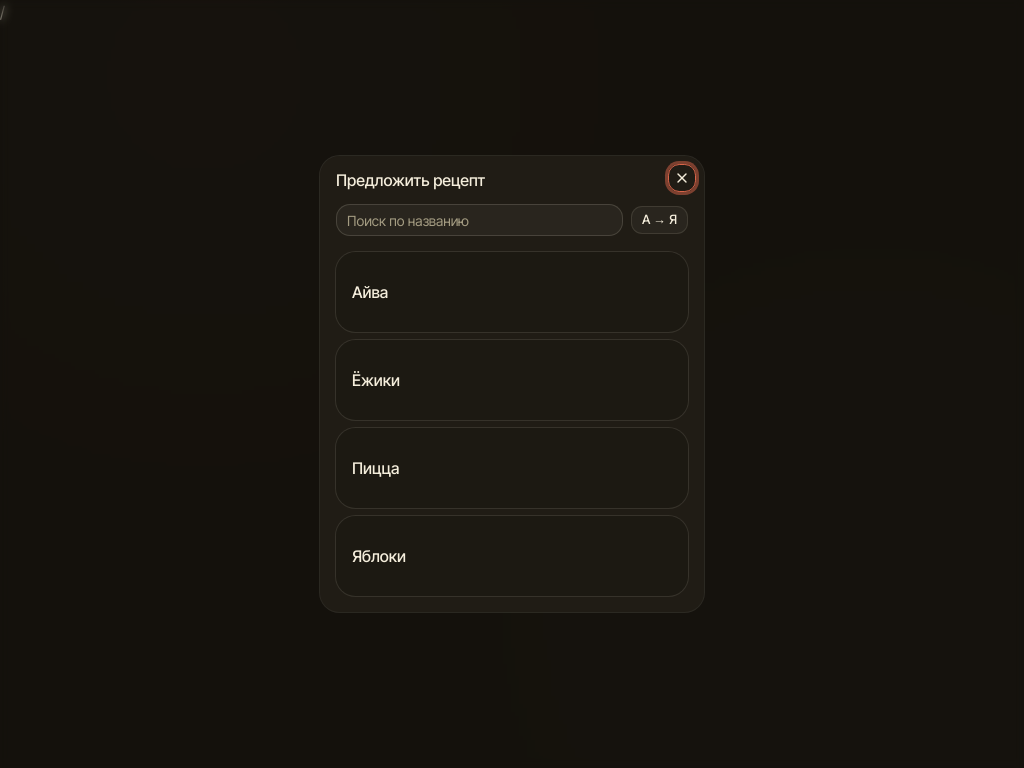
Scenario: SuggestRecipeDialog › поиск фильтрует по названию без учёта регистра и ё/е
Expected: the text "Пицца" is shown, [352,458,399,478]
Type "ежи" into the search field named "Поиск рецепта" at (480, 220), box [336,204,623,236]
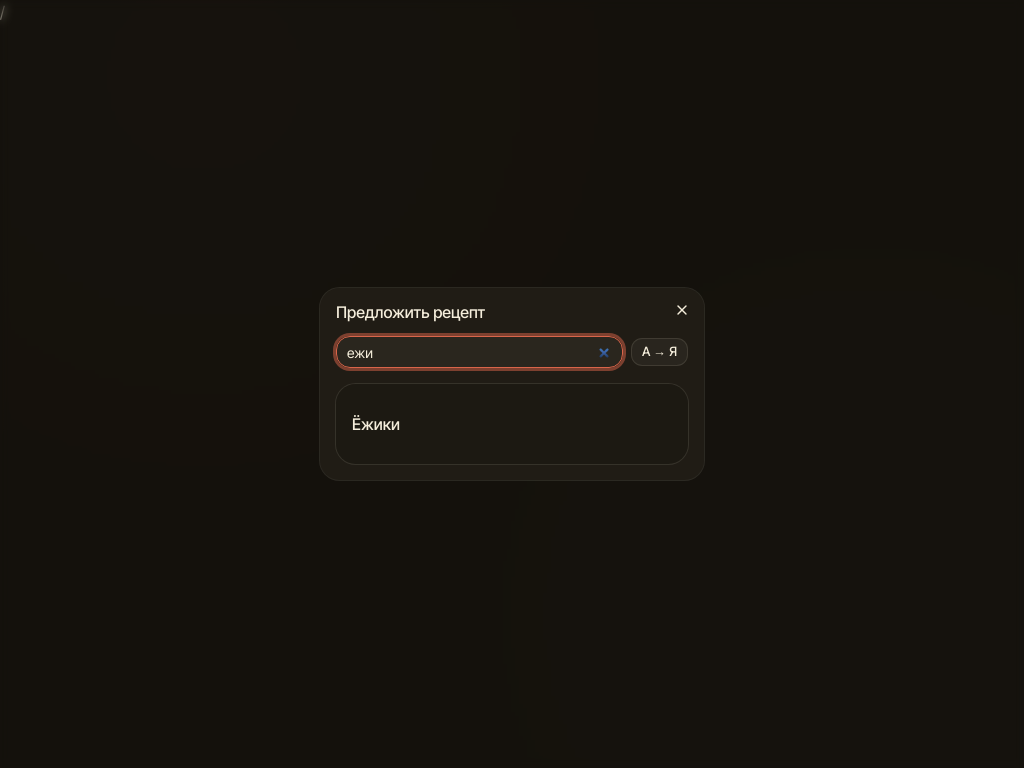
Clear the search field named "Поиск рецепта" at (480, 352), box [336,336,623,368]
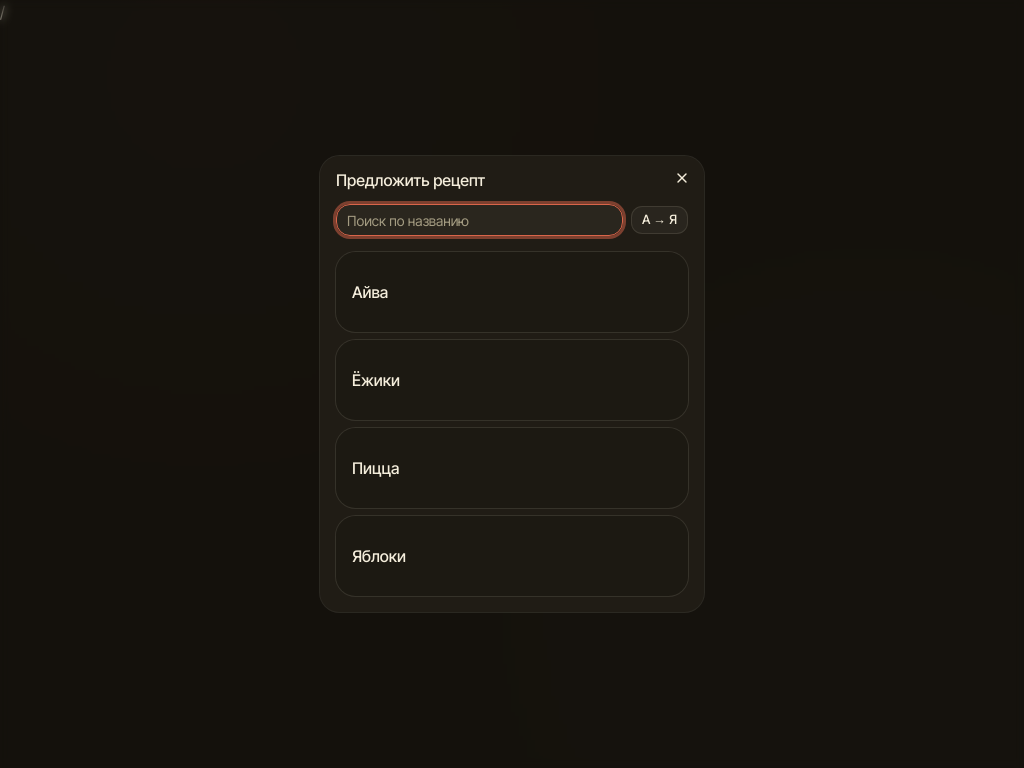
Type "ПИЦ" into the search field named "Поиск рецепта" at (480, 220), box [336,204,623,236]
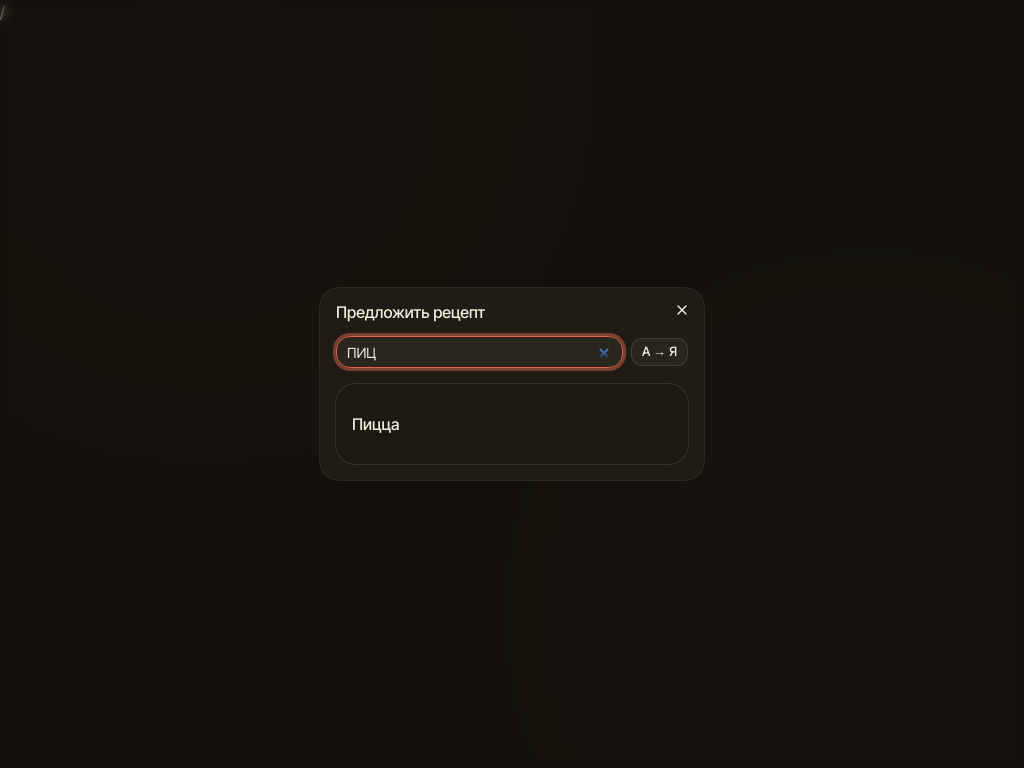
Clear the search field named "Поиск рецепта" at (480, 352), box [336,336,623,368]
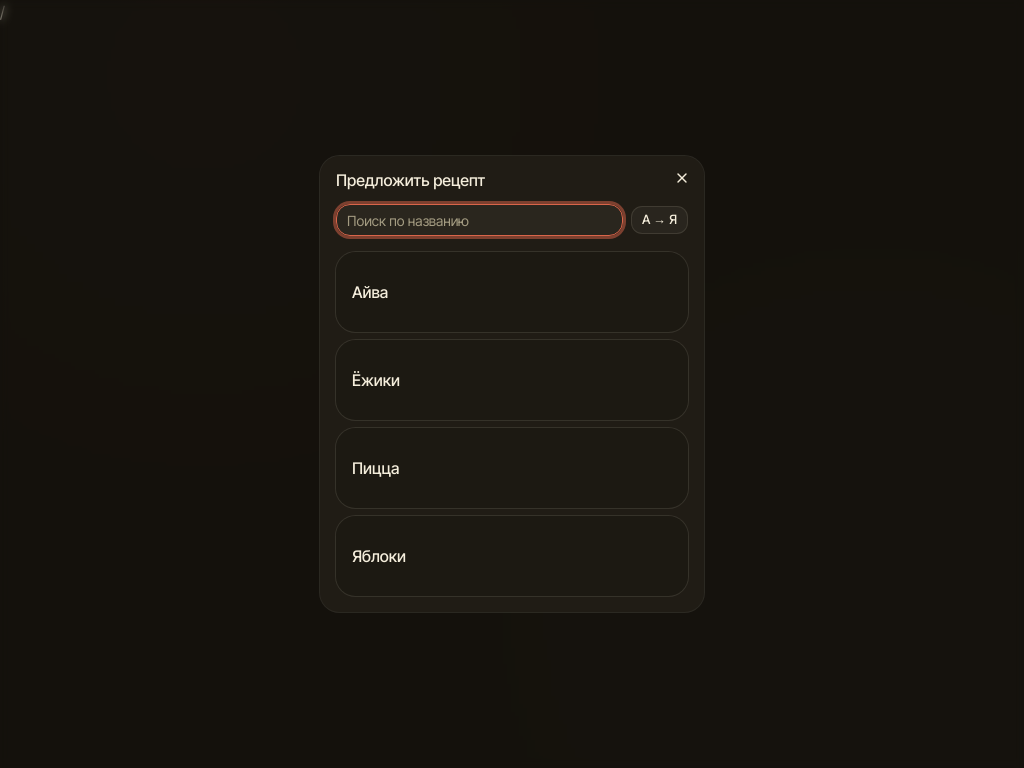
Type "нет такого" into the search field named "Поиск рецепта" at (480, 220), box [336,204,623,236]
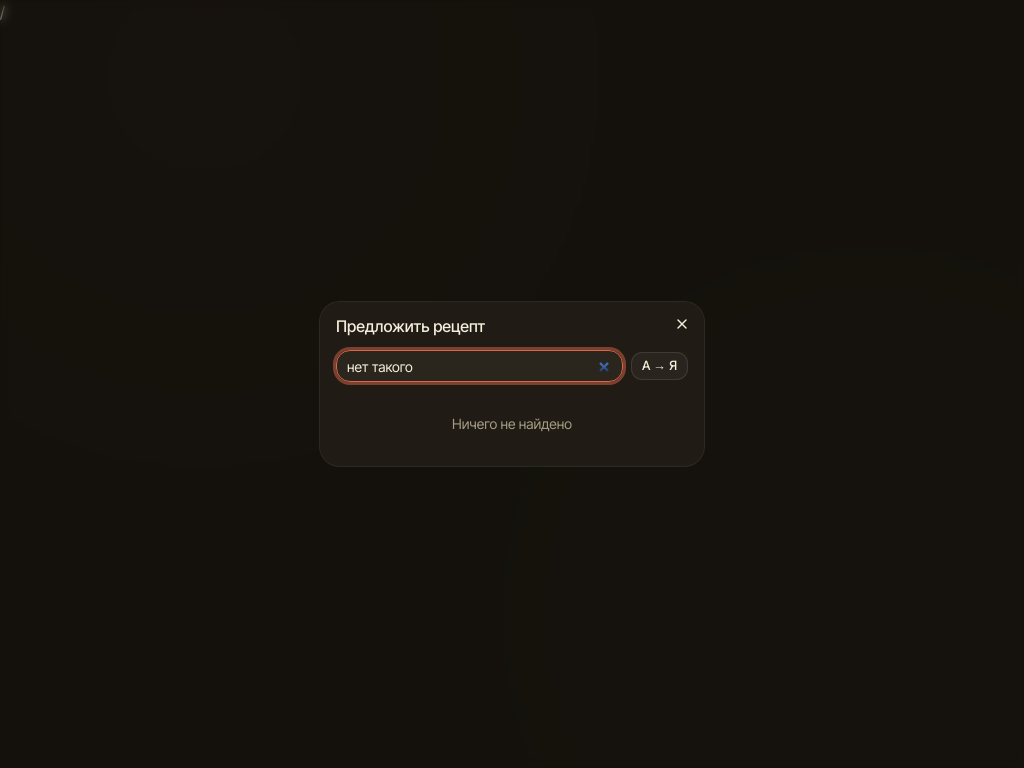
Now the text "Ничего не найдено" is shown, box [452,415,572,432]
